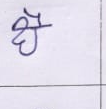ai_matra: (24, 7, 45, 25)
